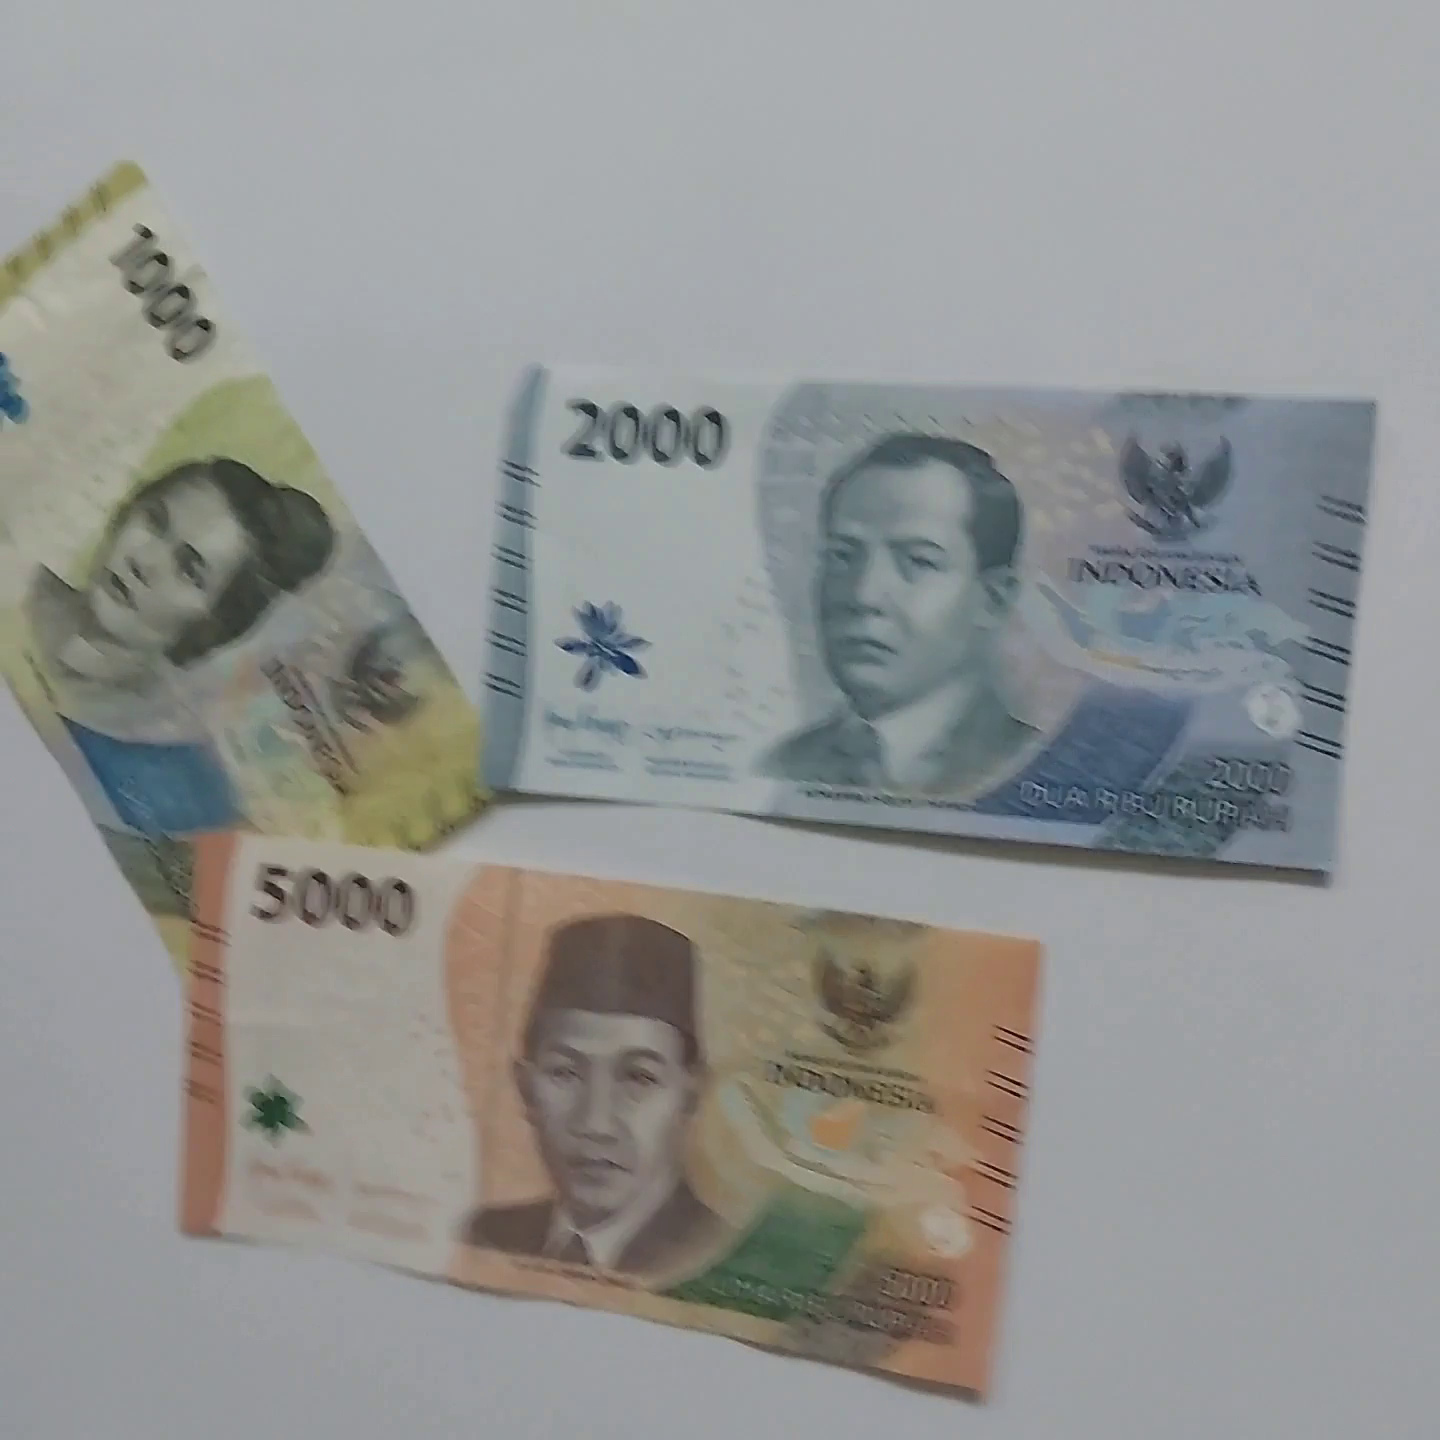1k: (0, 173, 603, 932)
2k: (491, 306, 1425, 920)
5k: (145, 831, 1059, 1423)
